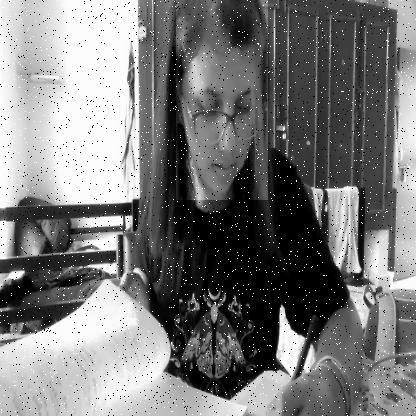Distracted: (176, 0, 268, 200)
